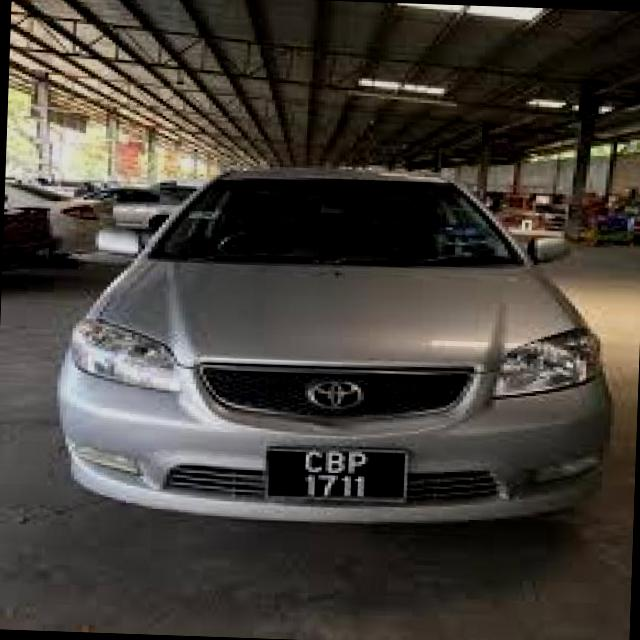ToyotaVios: (51, 155, 620, 533)
